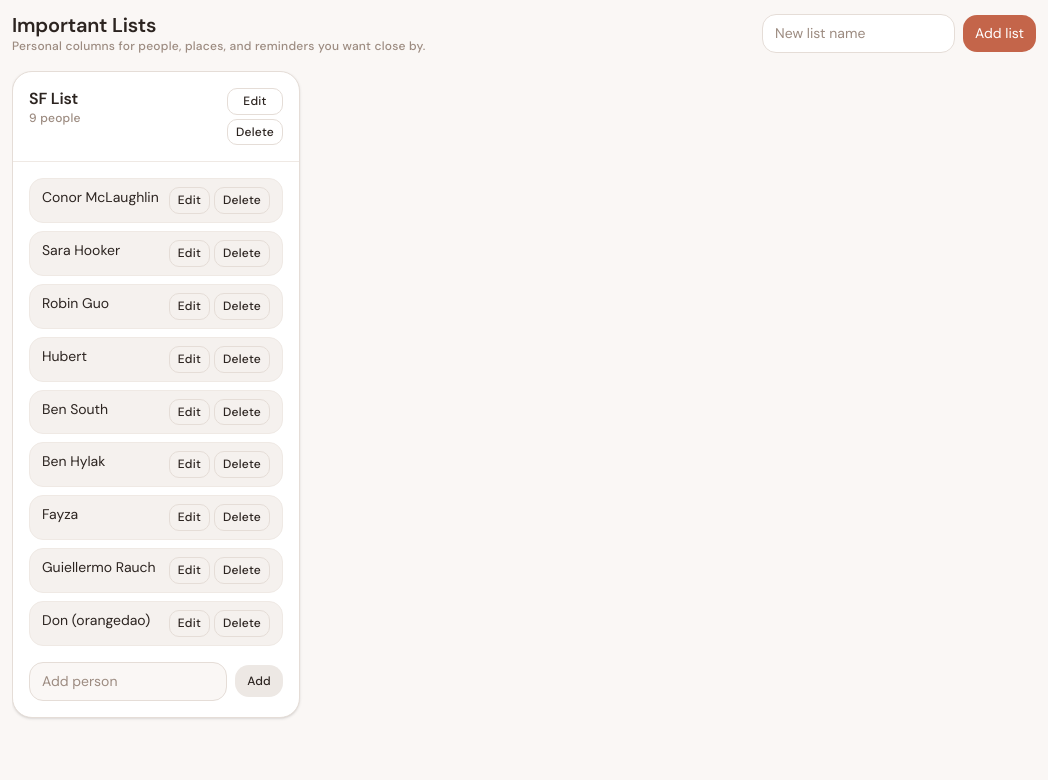
Test: ImportantLists › allows editing an existing person in a list
Click the button with aria-label "edit item hubert" at (189, 359), box [169,346,210,373]
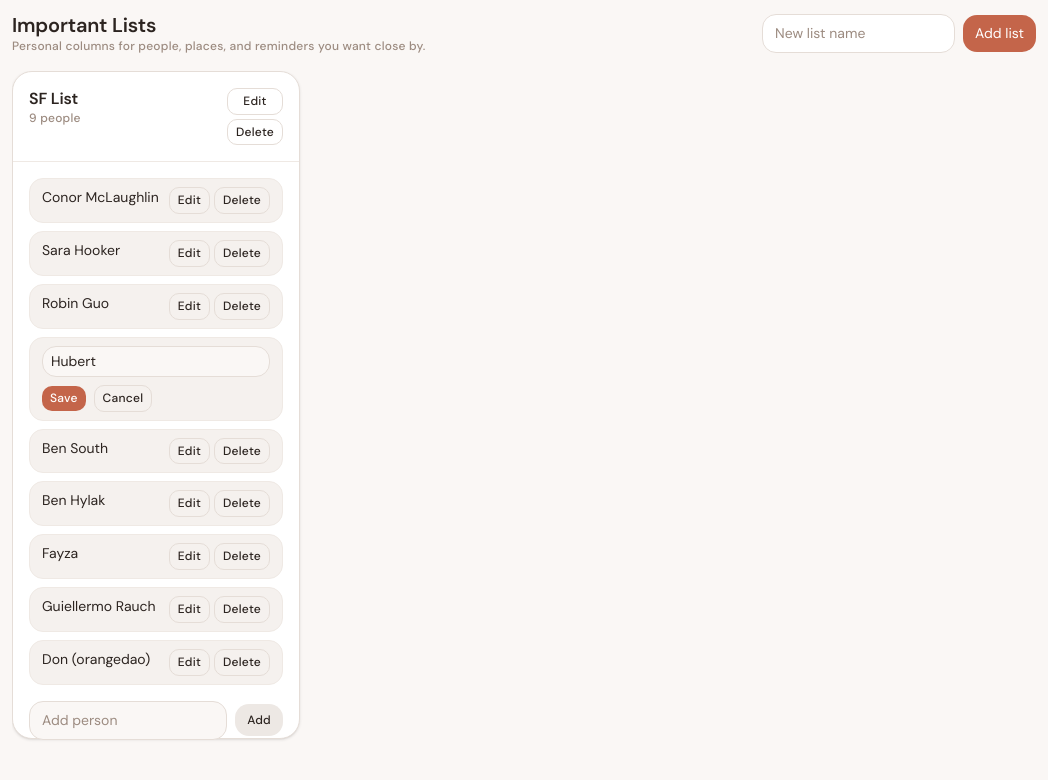
Replace the text in the field named "edit item hubert" with "Hubert Chang" at (156, 361), box [42,346,270,377]
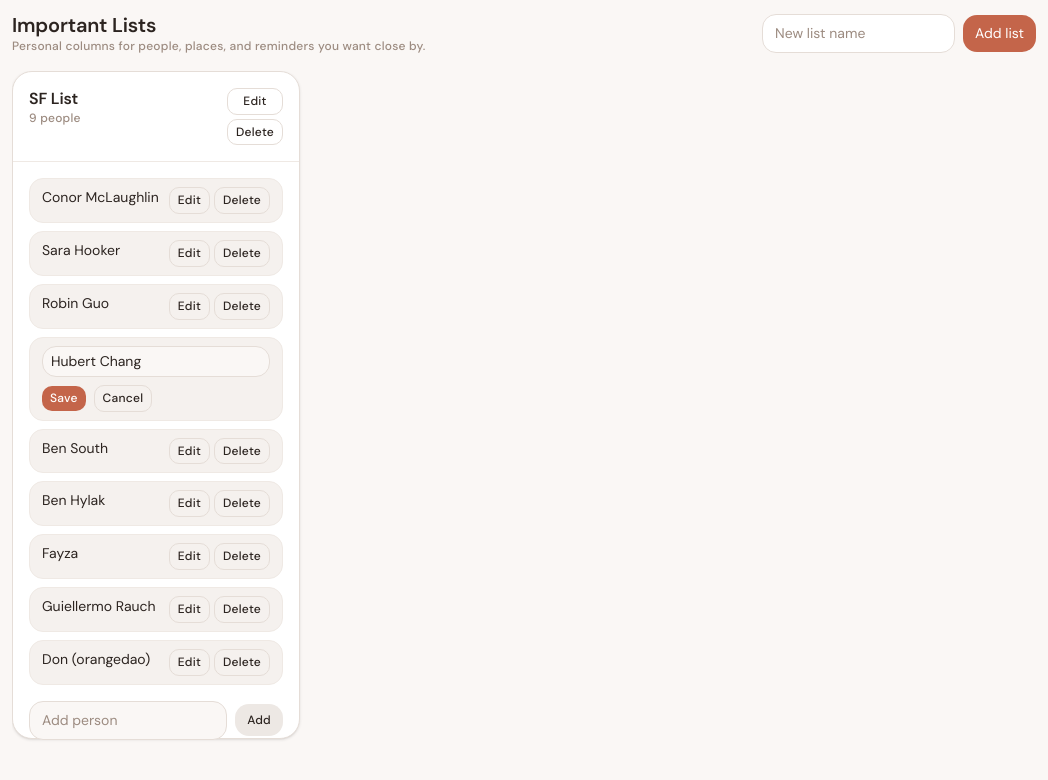
Click the button with aria-label "save item hubert" at (64, 398), box [42,386,86,411]
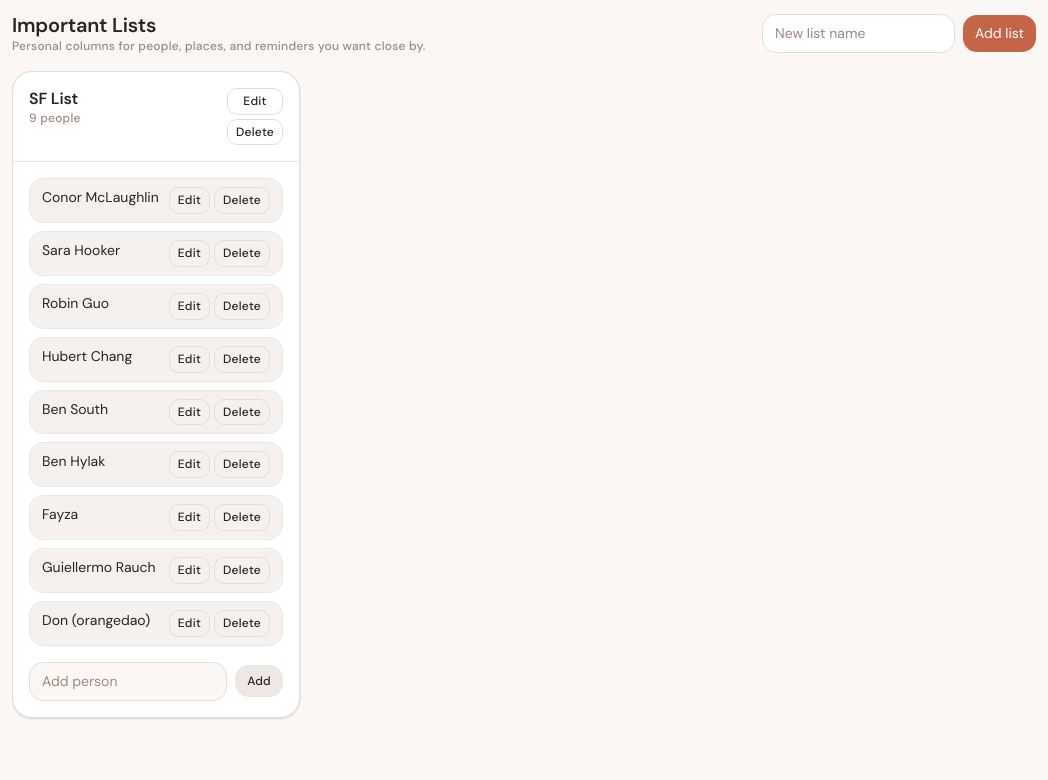
Check: the text "Hubert Chang" is shown, box [42,346,132,367]
